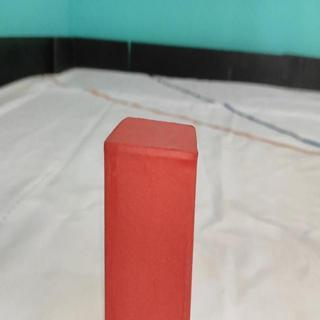redbox: (103, 117, 197, 320)
